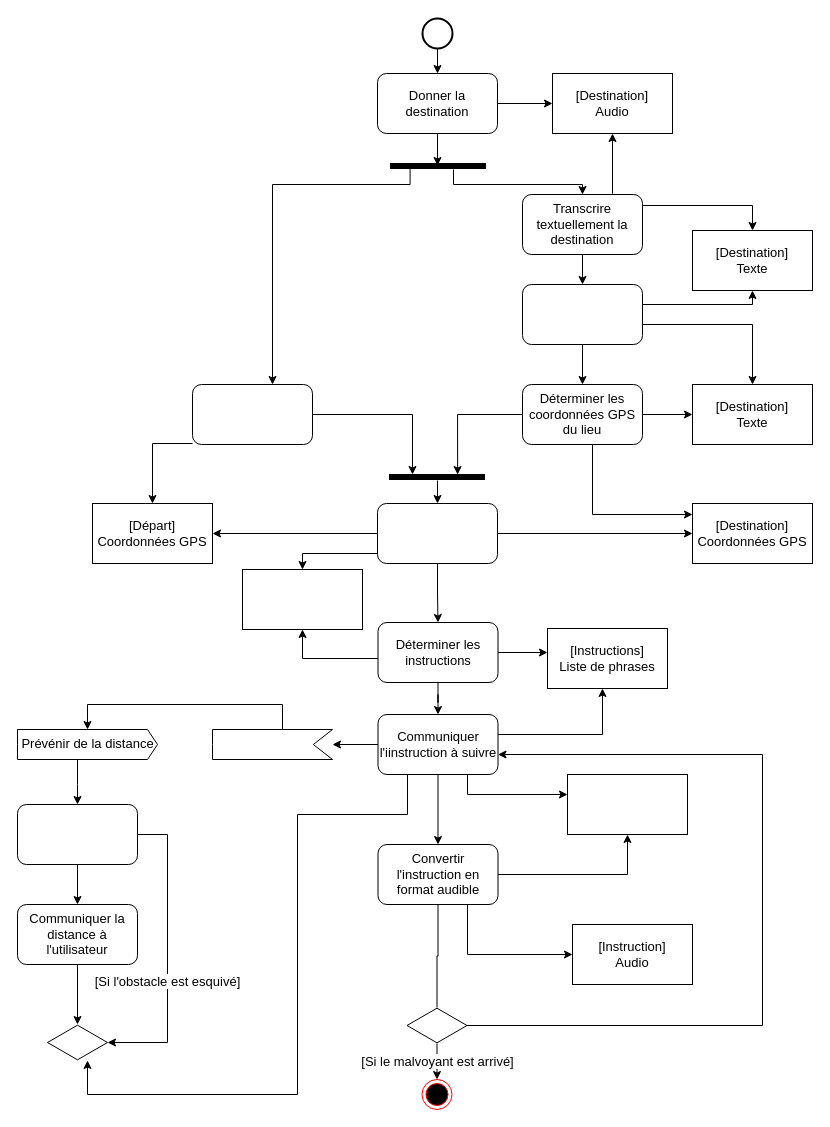
This 830x1127 diagram has some shape labels left out. The centre of each missing label's shape, as x and y in pixels:
"[Chemin]" belongs at point (302, 599).
"[Instructions] Texte" belongs at point (627, 804).
"Détecter obstacle" belongs at point (272, 744).
"Déterminer la position actuelle" belongs at point (252, 414).
"Déterminer le trajet" belongs at point (437, 533).
"Etablir la correspondance avec un lieu existant" belongs at point (582, 314).
"Récupérer la distance" belongs at point (77, 834).
